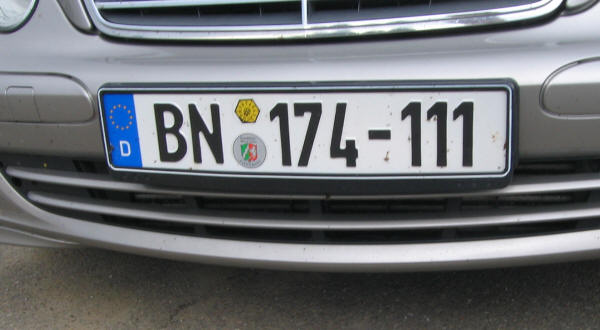license_plate: (97, 80, 513, 177)
